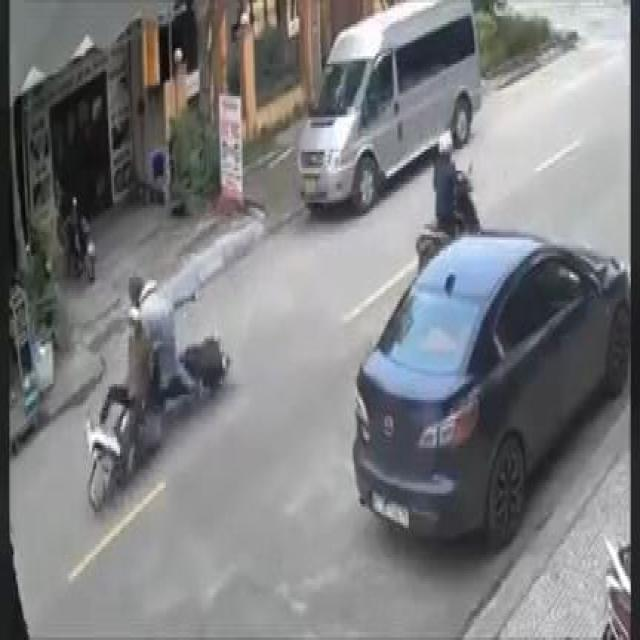accident: (82, 258, 237, 530)
